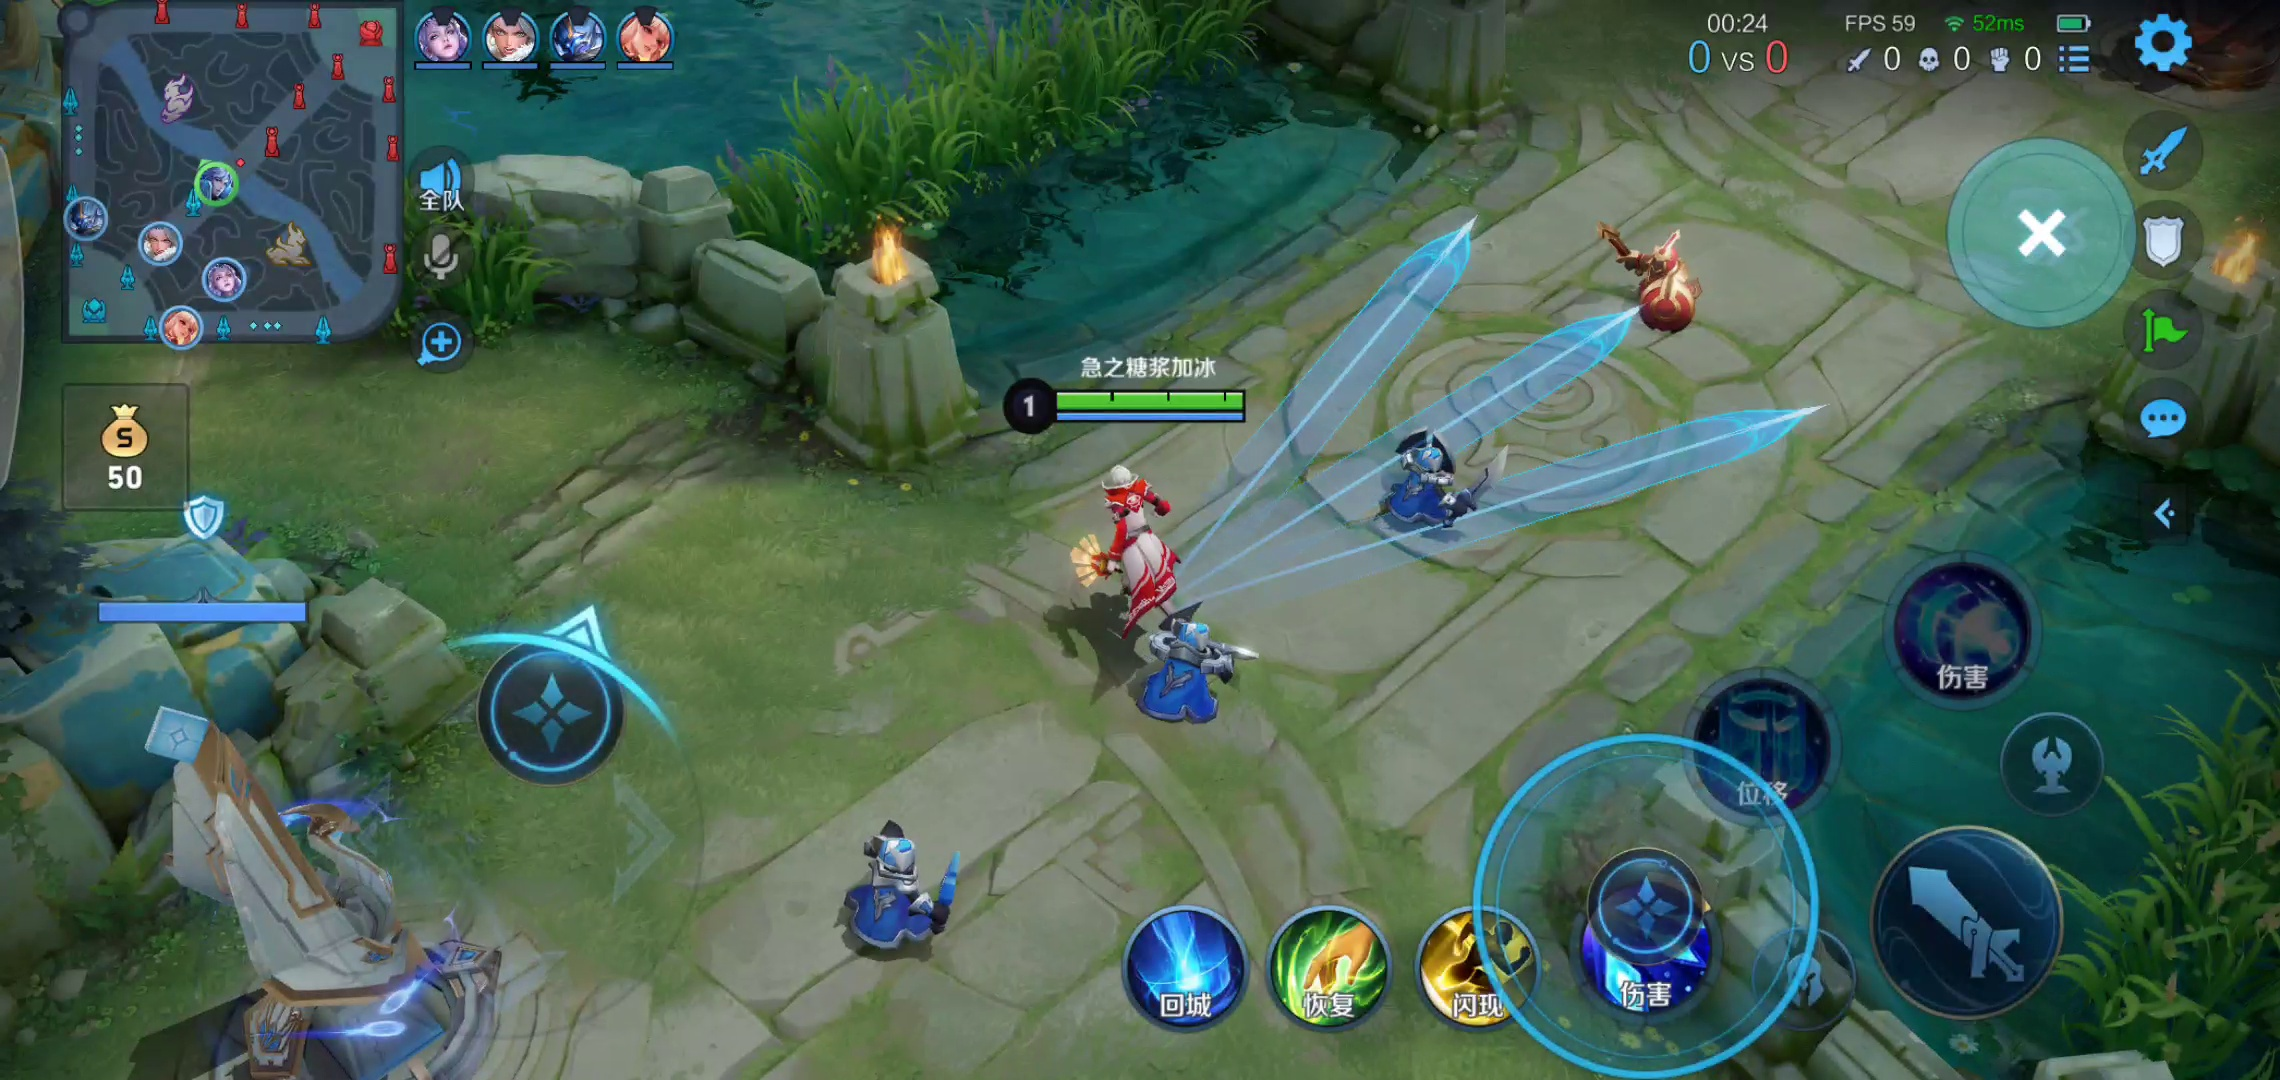grass: (712, 1, 1275, 281), (2068, 661, 2277, 1079), (318, 188, 558, 356)
hero: (1057, 456, 1192, 637)
soldier: (808, 810, 1011, 968), (1579, 206, 1723, 342), (1120, 622, 1285, 738), (1374, 422, 1502, 542)
tower: (115, 721, 538, 1079)
